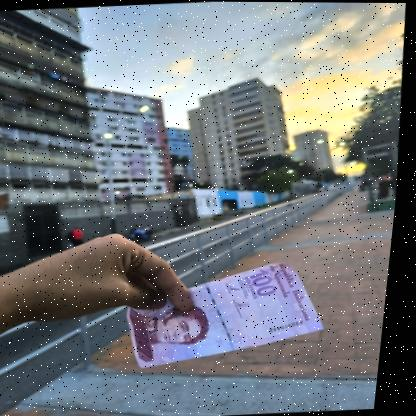one_hundred-front-vef: (126, 257, 339, 369)
